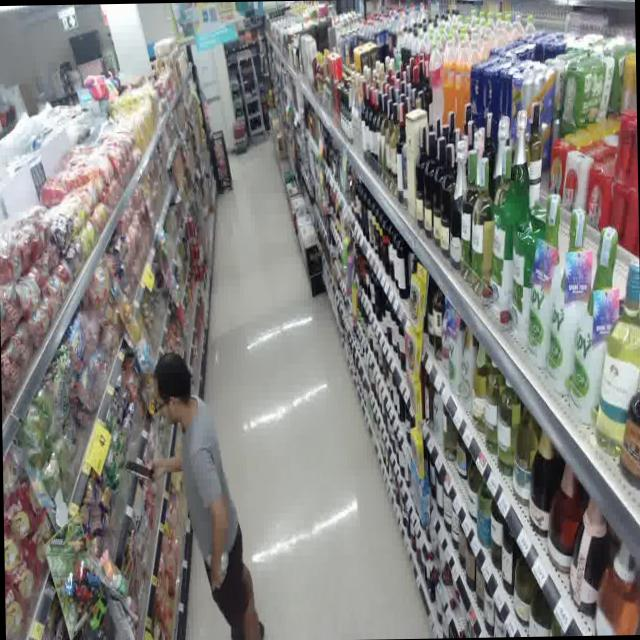shoplifting: (111, 331, 270, 640)
